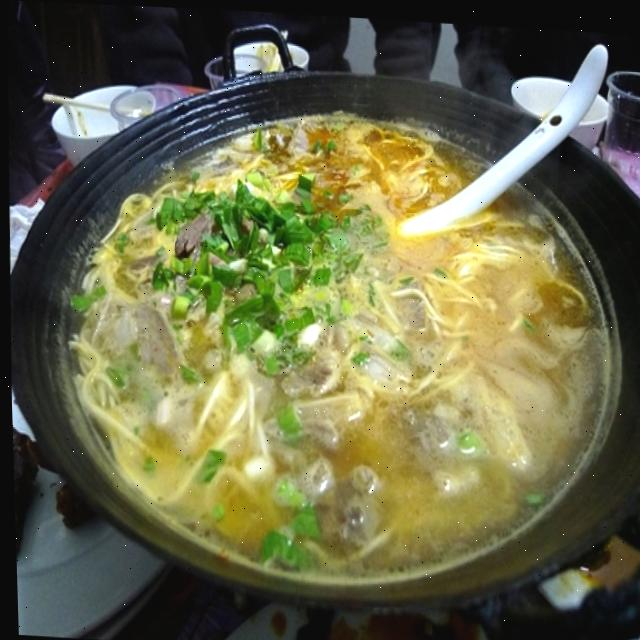面条主食: (16, 54, 640, 604)
